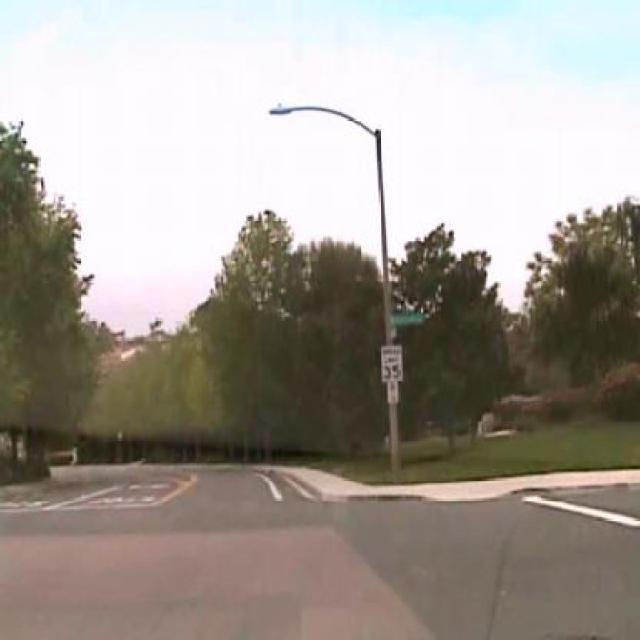speedLimit35: (380, 343, 403, 381)
